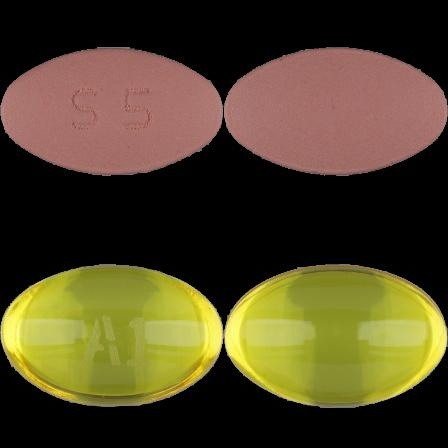63187-075: (0, 0, 224, 224)
